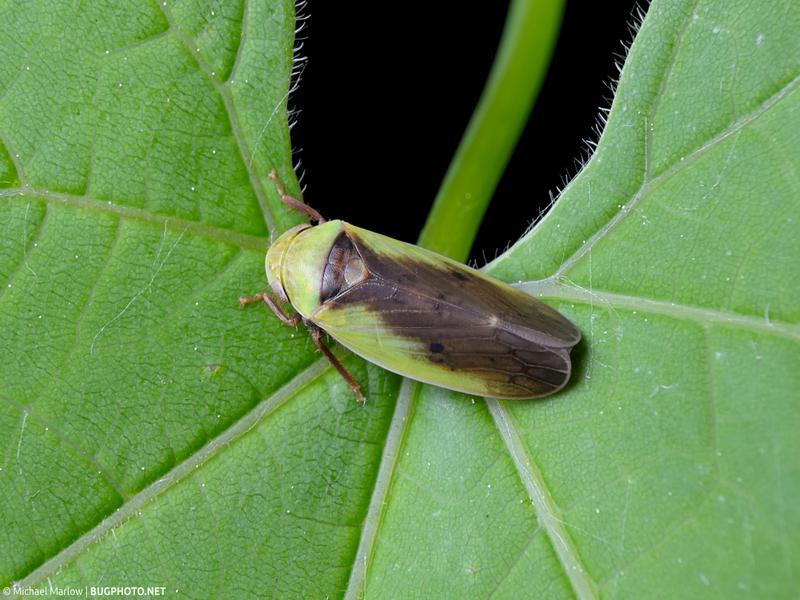Brown_plant_leafhopper: (226, 206, 615, 454)
